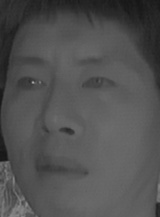eye: (80, 70, 121, 96), (14, 71, 49, 95)
mouth: (29, 145, 92, 187)
